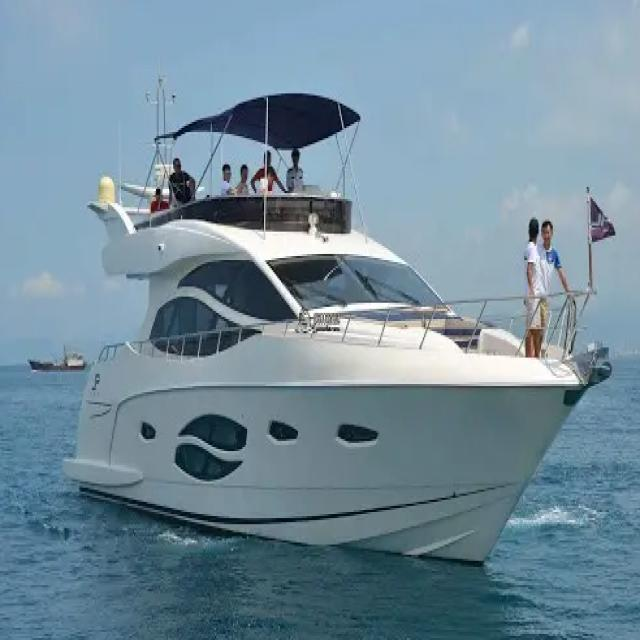houseboat: (58, 66, 617, 574)
